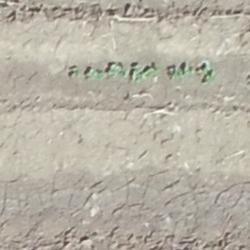cotton: (89, 70, 102, 78), (111, 65, 123, 73), (131, 70, 140, 80), (148, 65, 158, 73), (172, 69, 181, 77), (207, 71, 215, 78), (199, 67, 207, 73), (183, 68, 192, 72), (76, 70, 81, 75)
